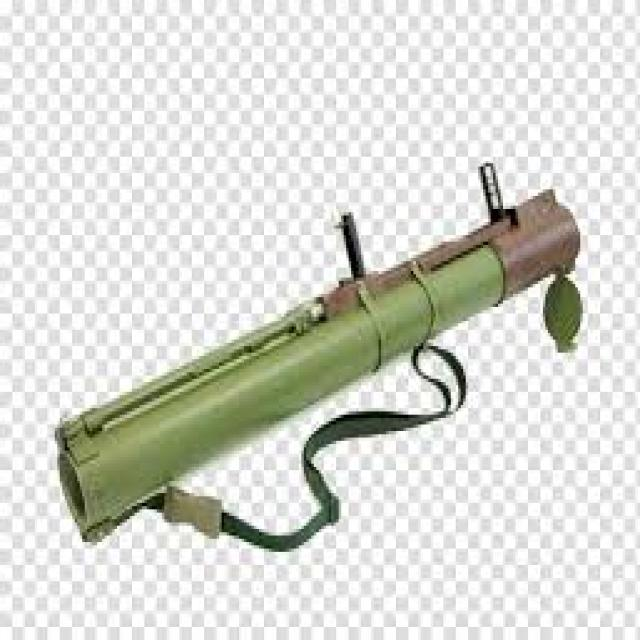Gun: (39, 156, 608, 584)
